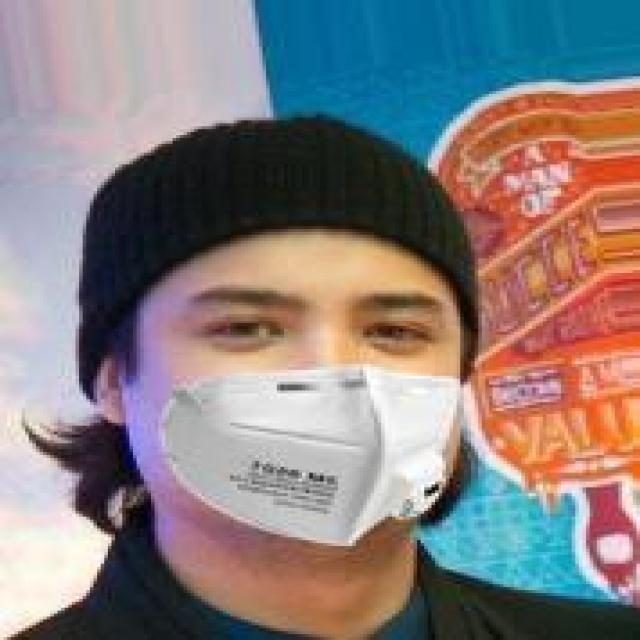mask: (51, 85, 528, 593)
